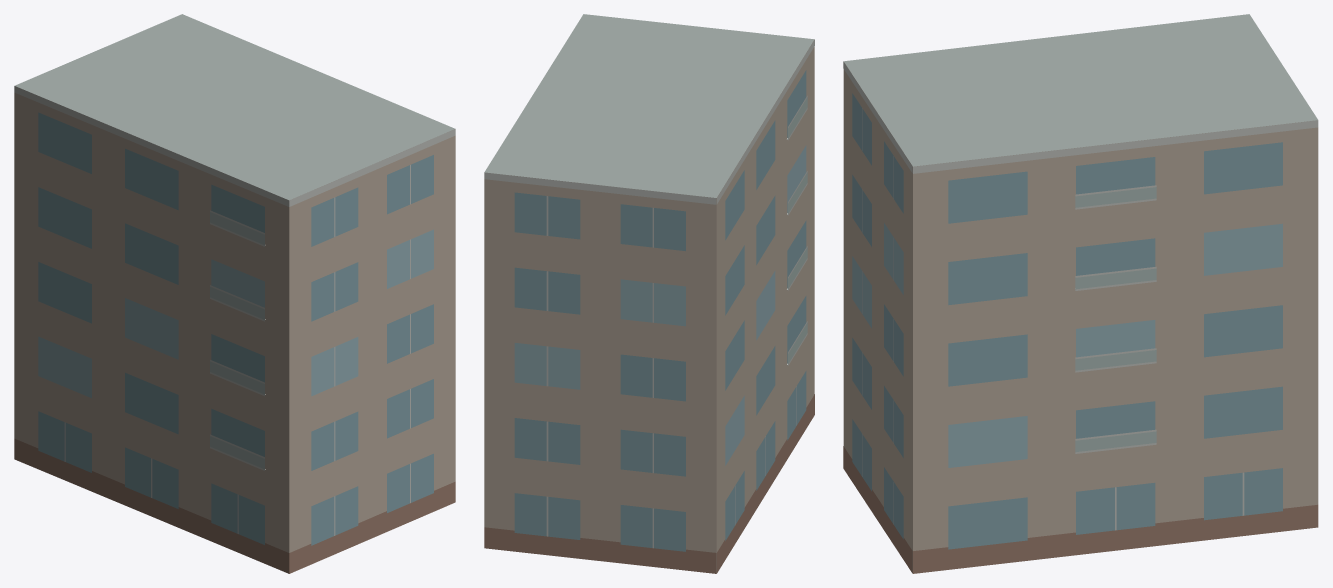
File: survey-upis-33042420.glb
3 views of the same model, side by side, from view 1: azimuth 30°, elevation 25°; view 2: azimuth 150°, elevation 25°; view 3: azimuth 270°, elevation 25° (orthographic). The views are drawn at different scales.
Visible parts, largest first — view 1: survey-upis-33042420.tmp; view 2: survey-upis-33042420.tmp; view 3: survey-upis-33042420.tmp.
Boxes of the visible parts, <box> form: survey-upis-33042420.tmp: <box>14,14,455,573</box>; survey-upis-33042420.tmp: <box>484,14,814,573</box>; survey-upis-33042420.tmp: <box>843,14,1318,573</box>.
Bounding box in the file's own units: 10.94 × 13.6 × 14.38.
